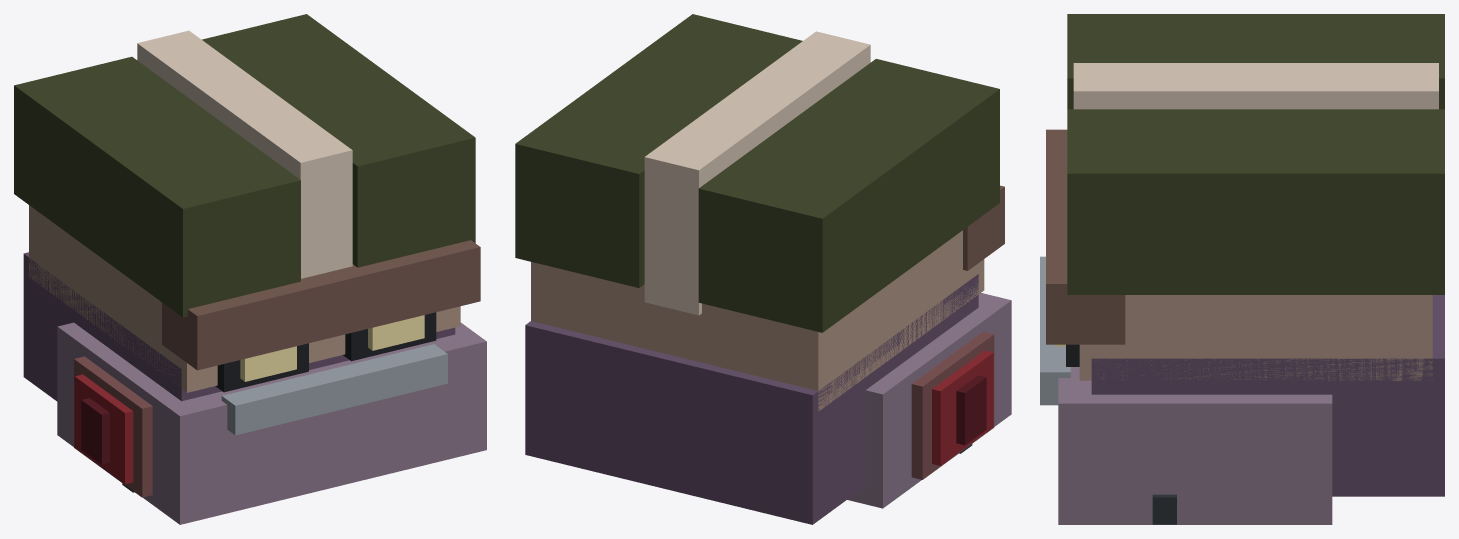
The model's file is inf_v2_brute_head.fbx.
The picture shows the model from 3 angles, left to right: view 1: azimuth 30°, elevation 25°; view 2: azimuth 150°, elevation 25°; view 3: azimuth 270°, elevation 25°; orthographic projection. The views are drawn at different scales.
Visible parts, largest first — view 1: inf_v2_brute_head; view 2: inf_v2_brute_head; view 3: inf_v2_brute_head.
Part boxes in pixels (x1,y1,x2,y2): inf_v2_brute_head: (14,14,486,524); inf_v2_brute_head: (515,14,1011,524); inf_v2_brute_head: (1040,14,1444,524).
Bounding box in the file's own units: 144 × 132 × 133.
